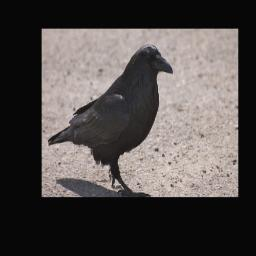Crow: (46, 43, 175, 197)
